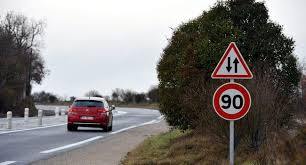Speed_limit_90km: (212, 83, 252, 120)
car: (66, 95, 115, 133)
